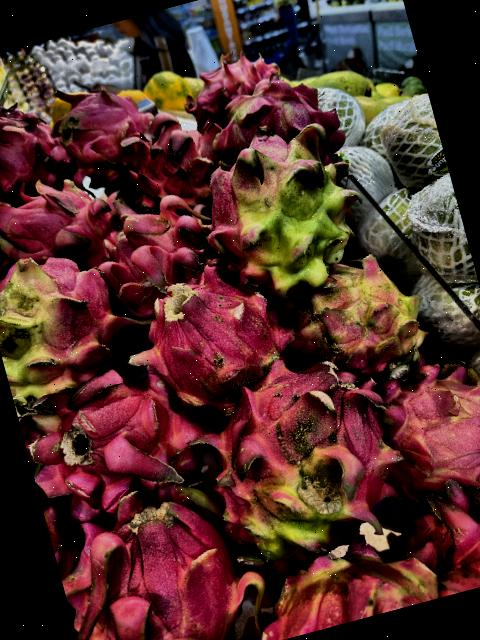buah-naga-belum-matang: (190, 352, 418, 573), (188, 126, 376, 306), (116, 260, 304, 421), (0, 237, 145, 412), (274, 250, 439, 396), (243, 525, 445, 640), (194, 64, 360, 190), (359, 336, 480, 504)
buah-naga-matang: (46, 471, 279, 640), (18, 360, 222, 530), (80, 178, 230, 314), (0, 152, 138, 298), (30, 66, 156, 195), (115, 99, 231, 212), (396, 474, 480, 602), (171, 42, 293, 128), (0, 85, 69, 206)
